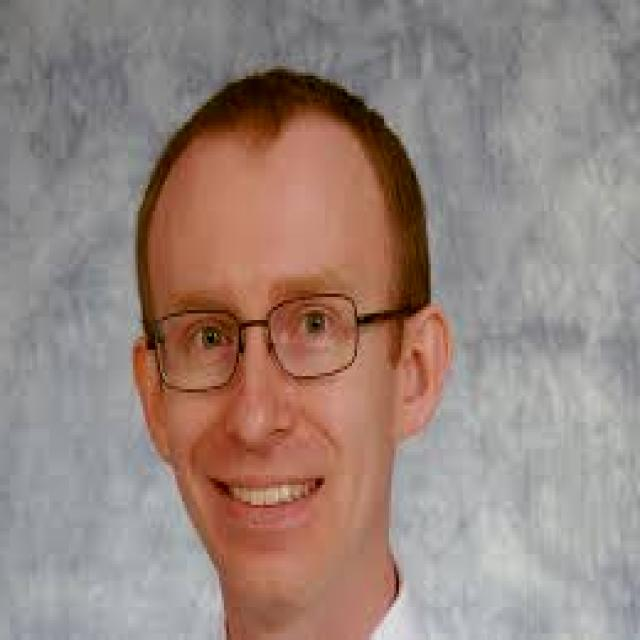normal_face: (144, 83, 426, 620)
